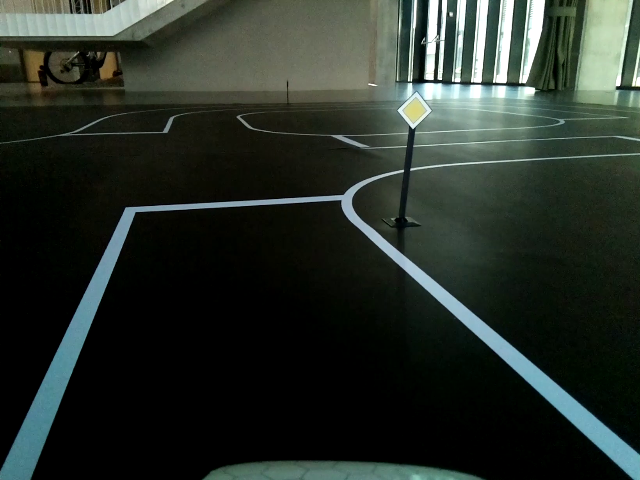priority: (397, 93, 434, 133)
